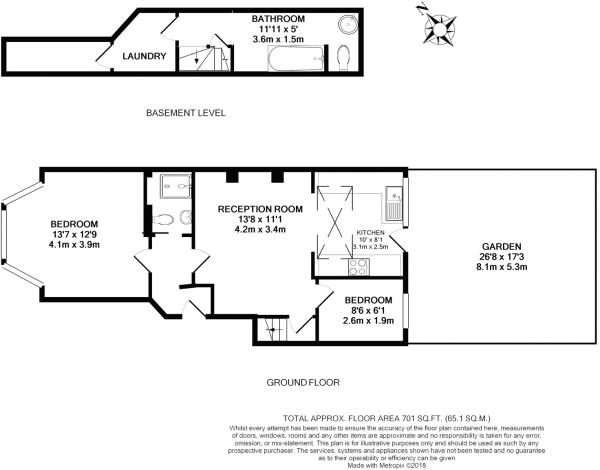GardenMeasurements: (473, 234, 531, 277)
GrossArea: (282, 412, 492, 423)
